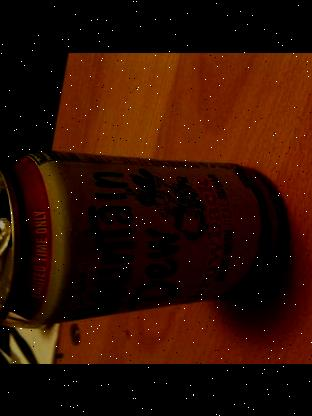Can: (0, 149, 285, 322)
